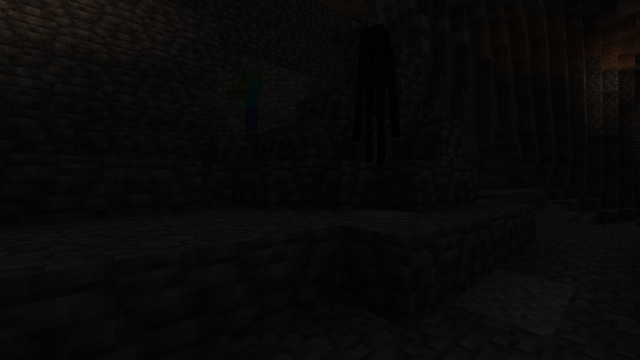endermens: (355, 16, 394, 163)
zombies: (237, 66, 263, 135)
